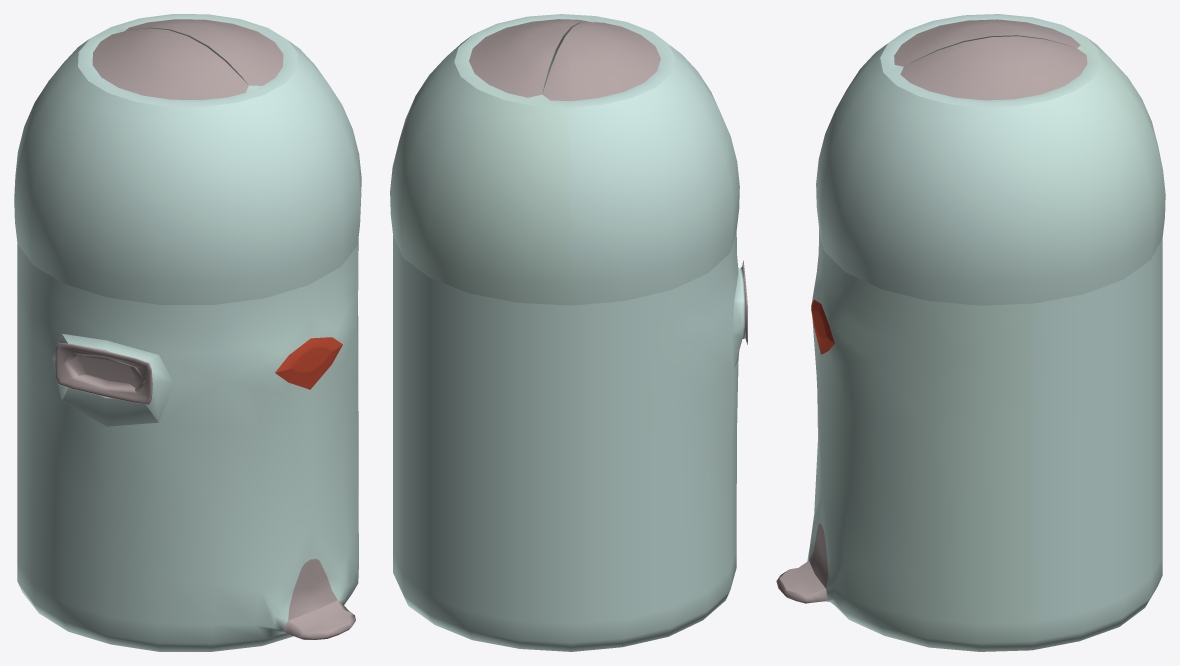
File: Garbage2.fbx
3 renders of one model, left to right at view 1: azimuth 30°, elevation 25°; view 2: azimuth 150°, elevation 25°; view 3: azimuth 270°, elevation 25°, orthographic.
Parts seen in each view (by area): view 1: Mülleimer.001; view 2: Mülleimer.001; view 3: Mülleimer.001.
Boxes of the visible parts, x1,y1,x2,y2 form: Mülleimer.001: (14, 14, 361, 651); Mülleimer.001: (390, 14, 747, 651); Mülleimer.001: (776, 14, 1165, 651).
Size of the model in its own units: 36.03 by 61.78 by 39.31.
